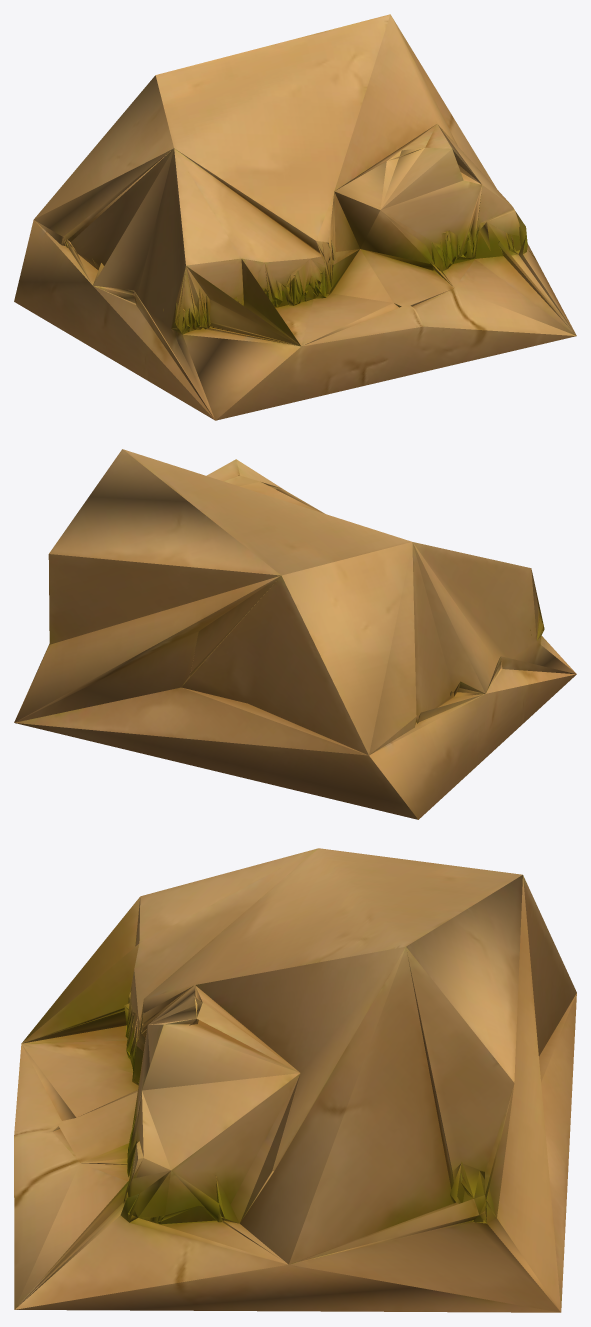
Rendered from m2StoneObstacle.glb.
3 renders of one model, top to bottom at view 1: azimuth 30°, elevation 25°; view 2: azimuth 150°, elevation 25°; view 3: azimuth 270°, elevation 25°, orthographic. The views are drawn at different scales.
Visible parts, largest first — view 1: model; view 2: model; view 3: model.
Part boxes in pixels (bbox=[...]): model: bbox=[14, 14, 576, 420]; model: bbox=[14, 449, 576, 819]; model: bbox=[14, 848, 576, 1312].
Size of the model in its own units: 1.85 by 1.04 by 1.55.
1 material, 1 textured.
